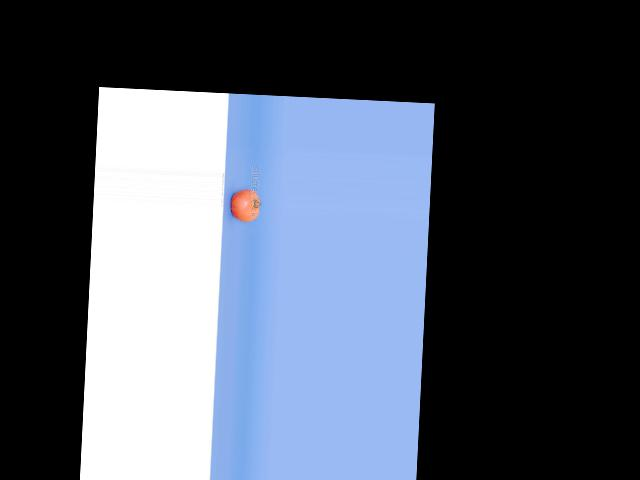tomato: (230, 189, 260, 223)
